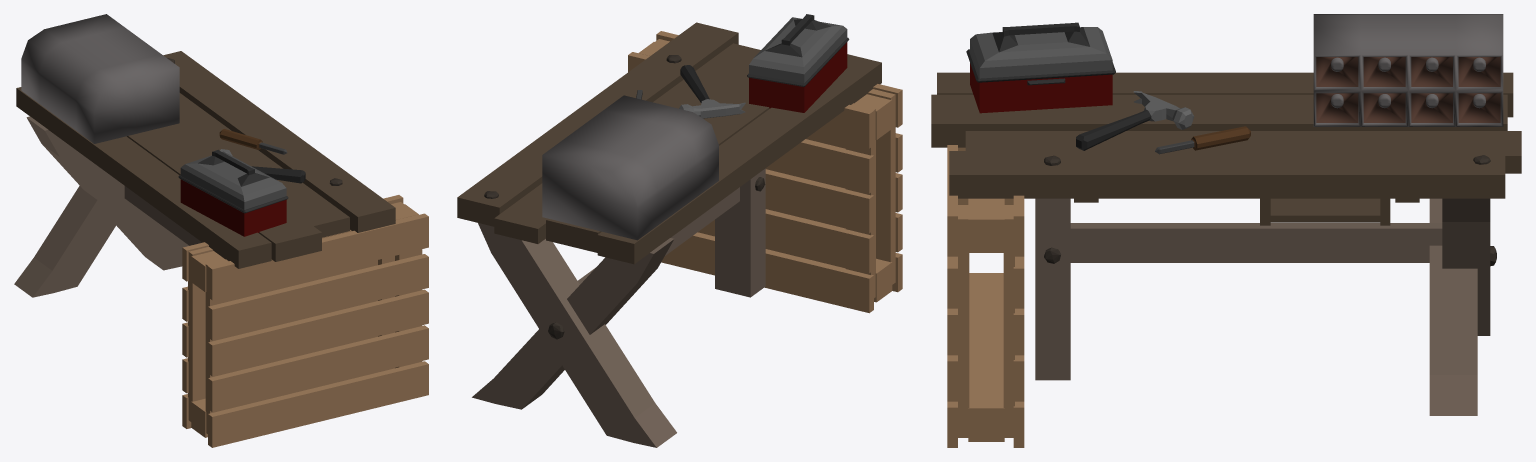
File: workbench1.fbx
3 views of the same model, side by side, from view 1: azimuth 30°, elevation 25°; view 2: azimuth 150°, elevation 25°; view 3: azimuth 270°, elevation 25° (orthographic). The views are drawn at different scales.
Parts seen in each view (by area): view 1: workbench01; view 2: workbench01; view 3: workbench01.
Boxes of the visible parts, x1,y1,x2,y2 form: workbench01: (14,14,428,447); workbench01: (457,14,902,447); workbench01: (931,14,1521,447).
Bounding box in the file's own units: 242 × 268 × 441.
